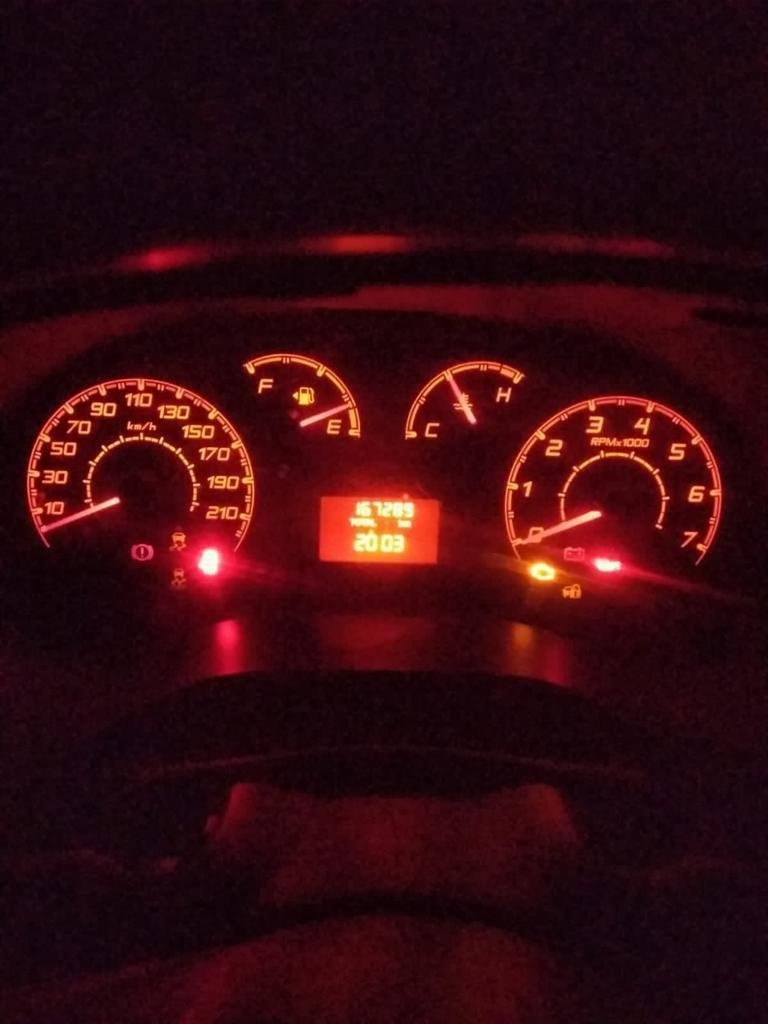0: (380, 533, 392, 552), (366, 532, 377, 552)
1: (355, 500, 359, 515)
2: (354, 532, 365, 552), (382, 501, 392, 517)
3: (392, 533, 404, 552)
6: (360, 500, 371, 517)
7: (372, 499, 381, 516)
8: (392, 501, 403, 517)
9: (403, 501, 414, 517)
X: (403, 520, 412, 527), (371, 518, 377, 527), (348, 517, 354, 526), (355, 517, 361, 526), (362, 517, 367, 526), (398, 519, 403, 528), (367, 518, 370, 526)
odometer: (313, 491, 444, 565)
